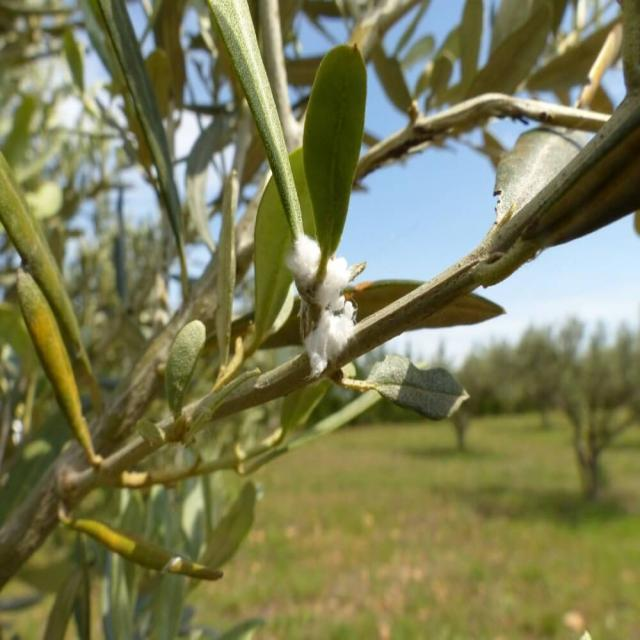Psyllid: (286, 233, 365, 377)
